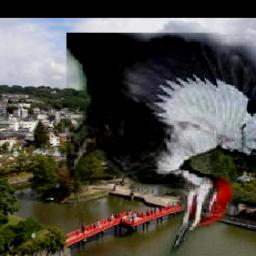Woodpecker: (66, 33, 256, 256)
